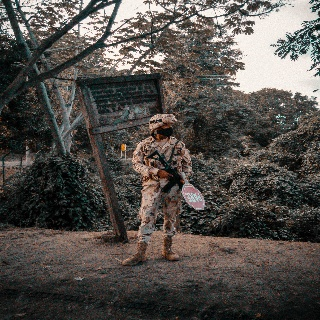rifle: (145, 150, 186, 194)
